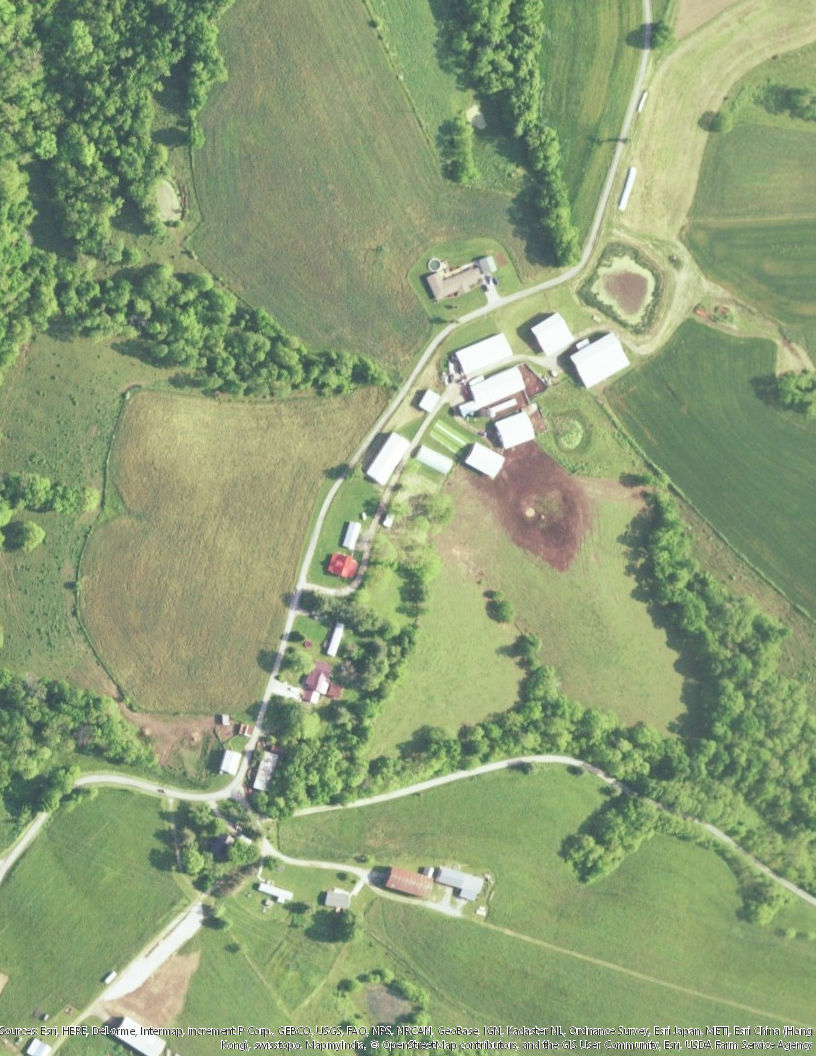cafo: (571, 325, 639, 398), (453, 368, 529, 413), (451, 331, 517, 376), (361, 430, 416, 483), (529, 311, 577, 359), (492, 409, 548, 449), (465, 440, 512, 480), (413, 440, 459, 480)
